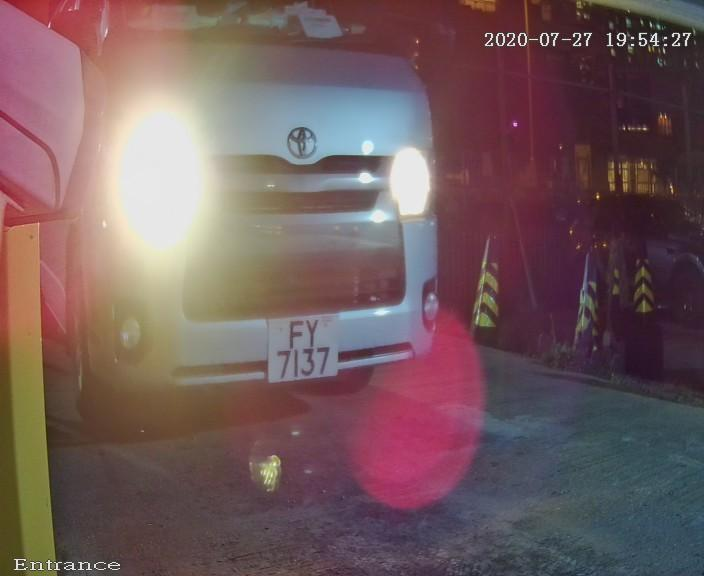privatecar: (19, 1, 466, 449)
